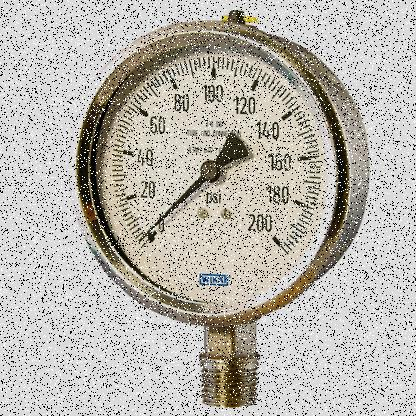needle: (137, 175, 206, 243)
